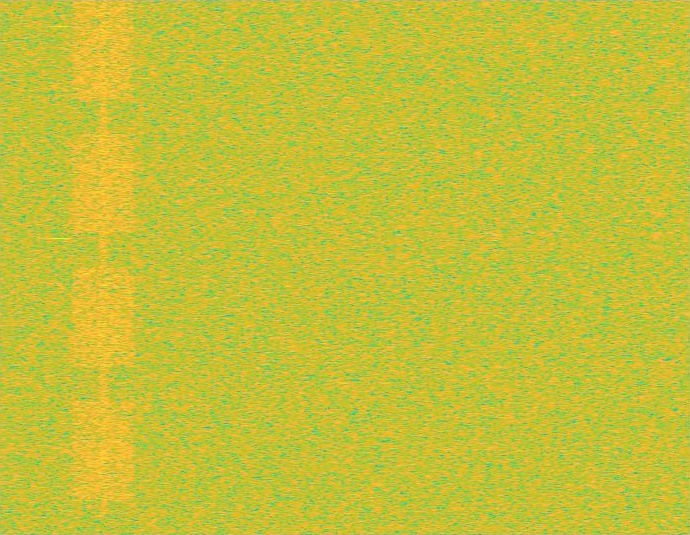5G: (69, 0, 138, 534)
DSSS: (99, 0, 108, 534)
Radar: (54, 0, 68, 534)
